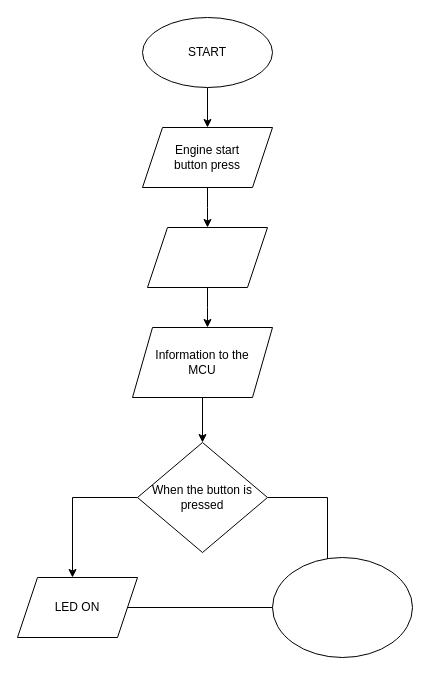
The diagram is 430 pixels wide and 675 high, and some of its shapes have lost their labels. The shapes that lost their labels are listed below. From the top down, each one's centre as x and y in pixels, then its label:
At pixel 207 257: "Wiper button pressed".
At pixel 342 607: "END".
